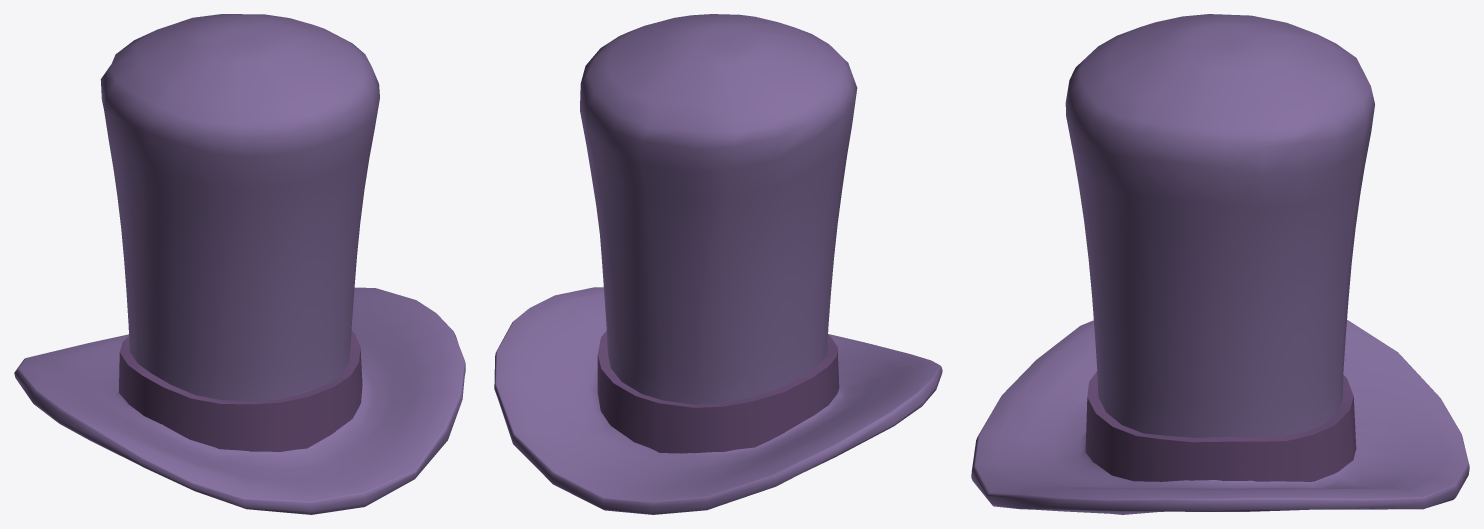
File: BLUE TOP HAT.fbx
The picture shows the model from 3 angles, left to right: view 1: azimuth 30°, elevation 25°; view 2: azimuth 150°, elevation 25°; view 3: azimuth 270°, elevation 25°; orthographic projection. The views are drawn at different scales.
Visible parts, largest first — view 1: Ollie_TopHat; view 2: Ollie_TopHat; view 3: Ollie_TopHat.
Boxes of the visible parts, bbox=[...] form: Ollie_TopHat: bbox=[14, 14, 465, 514]; Ollie_TopHat: bbox=[494, 14, 942, 514]; Ollie_TopHat: bbox=[971, 14, 1469, 514].
Bounding box in the file's own units: 421 × 410 × 423.
